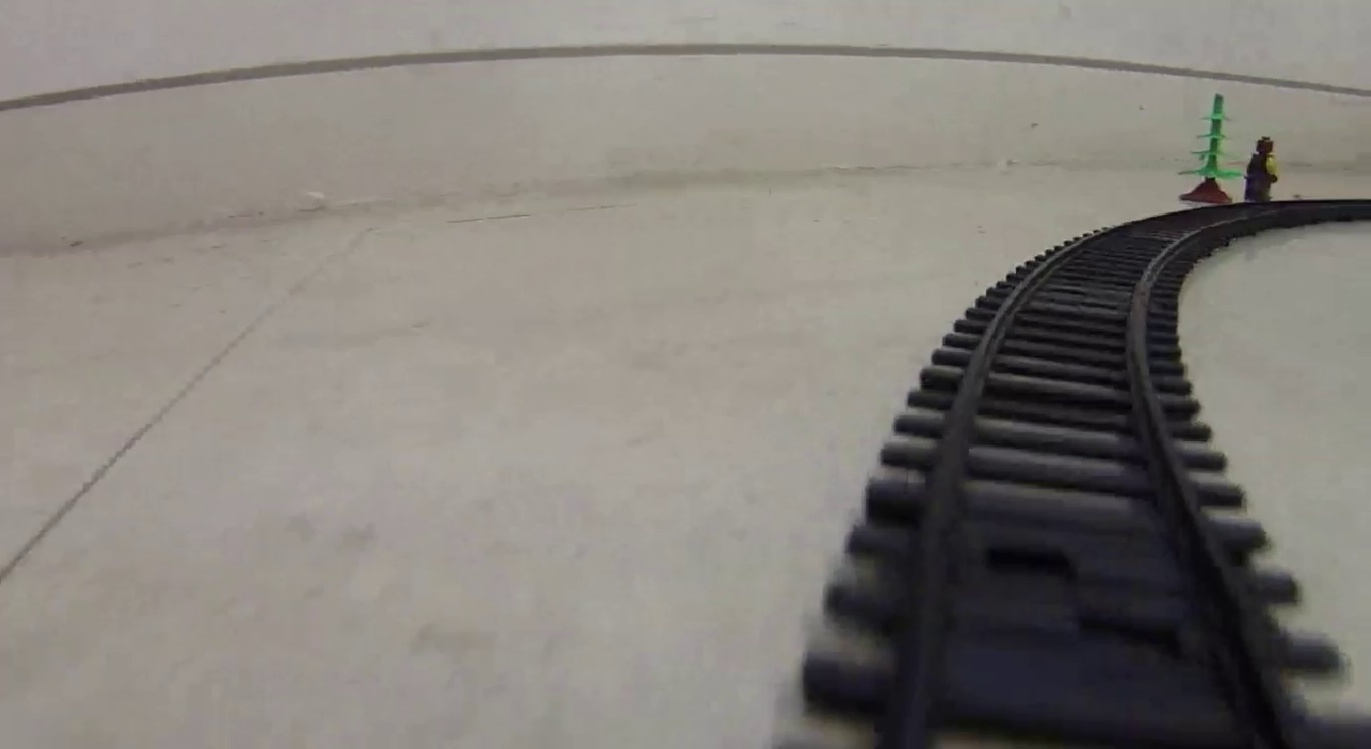people: (1244, 137, 1279, 203)
tree: (1176, 94, 1240, 204)
